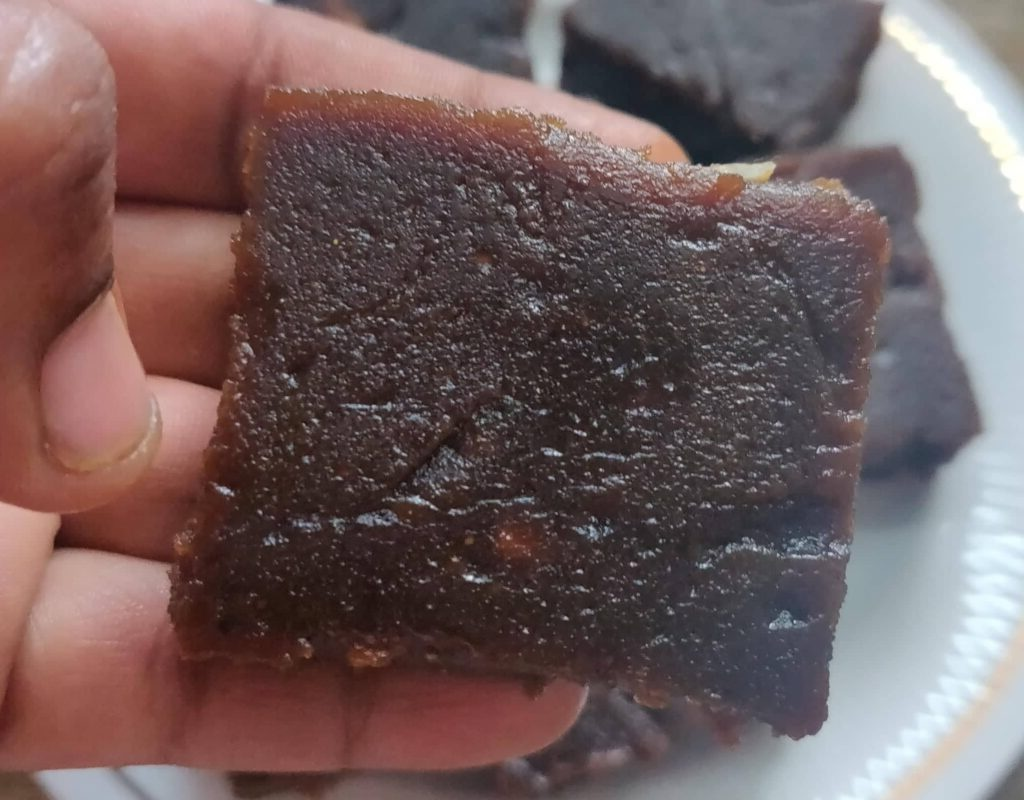dodol: (168, 75, 889, 740)
